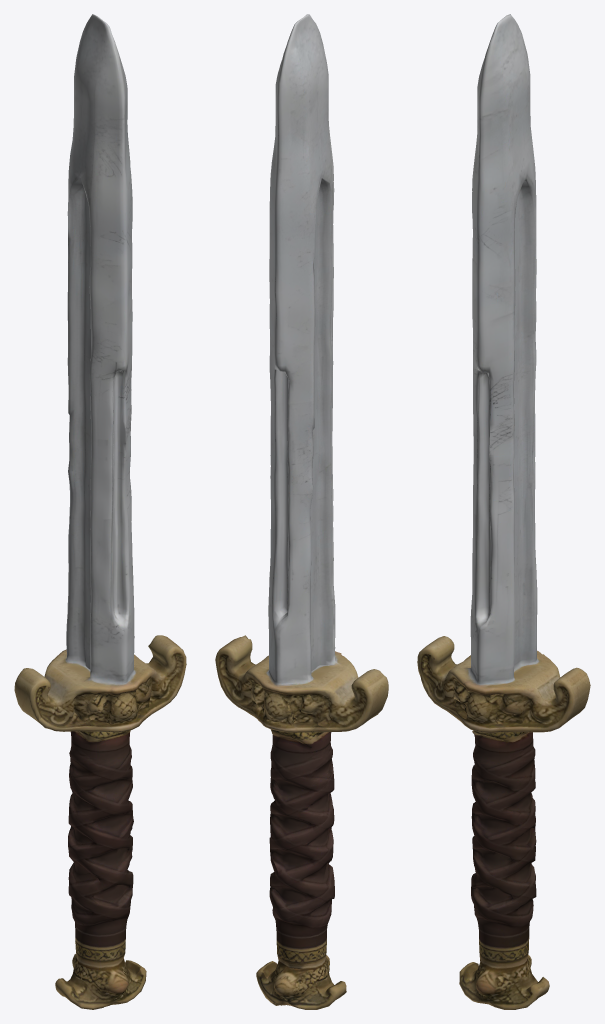
File: onehand_sword.glb
3 renders of one model, left to right at view 1: azimuth 30°, elevation 25°; view 2: azimuth 150°, elevation 25°; view 3: azimuth 330°, elevation 25°, orthographic.
Visible parts, largest first — view 1: tripo_node_4e676260; view 2: tripo_node_4e676260; view 3: tripo_node_4e676260.
Part boxes in pixels (x1,y1,x2,y2): tripo_node_4e676260: (14, 14, 186, 1009); tripo_node_4e676260: (215, 14, 388, 1009); tripo_node_4e676260: (417, 14, 590, 1009).
Size of the model in its own units: 16.78 by 99.89 by 10.65.
1 material, 1 textured.
